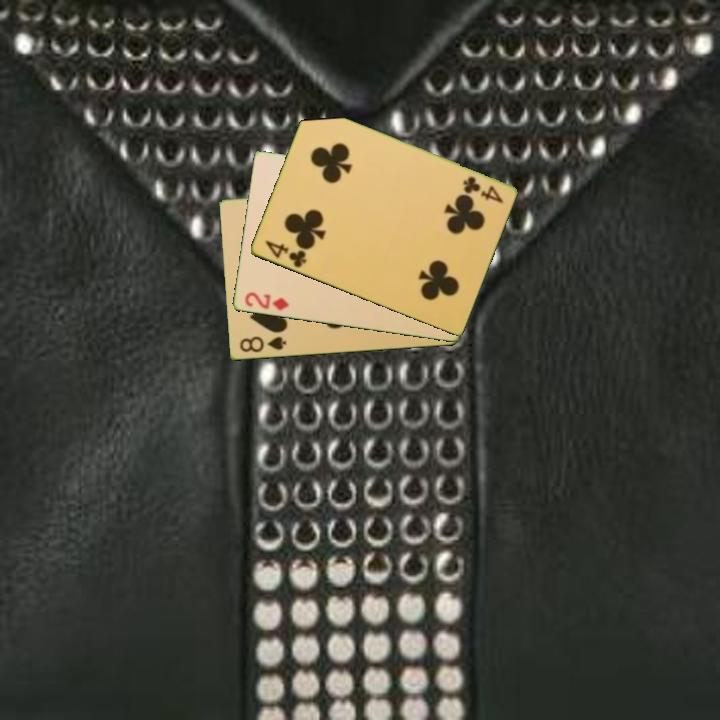2d: (241, 289, 291, 314)
4c: (261, 237, 309, 271), (459, 173, 506, 206)
8s: (236, 333, 289, 356)
